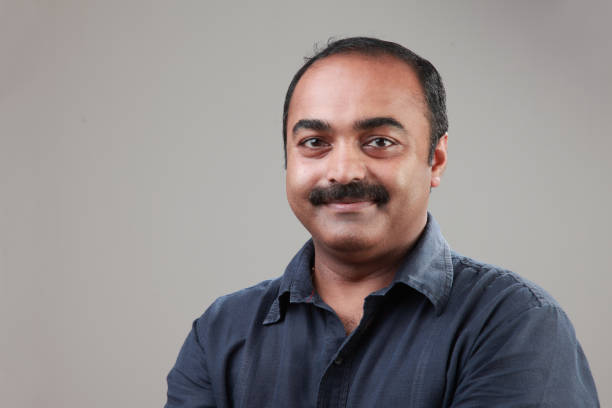Male: (166, 39, 585, 405)
